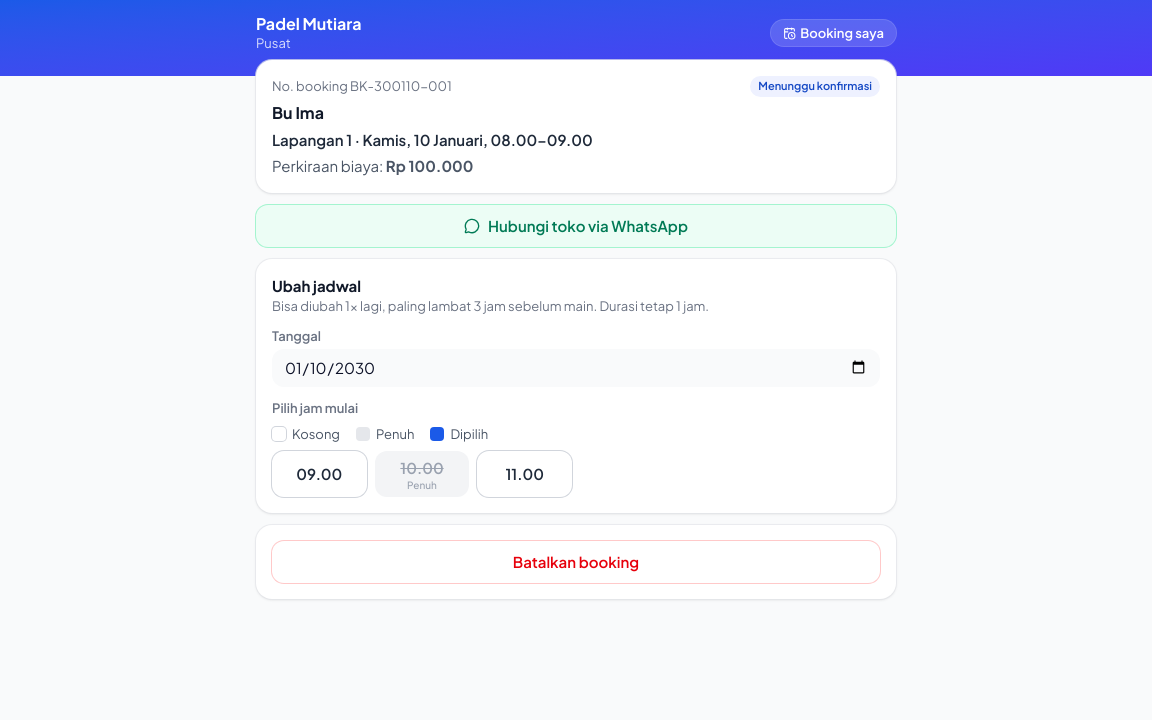
cancels only after the second, explicit tap
This screenshot has width=1152, height=720.
Click the button "Batalkan booking": (576,562) [272,541,880,583]
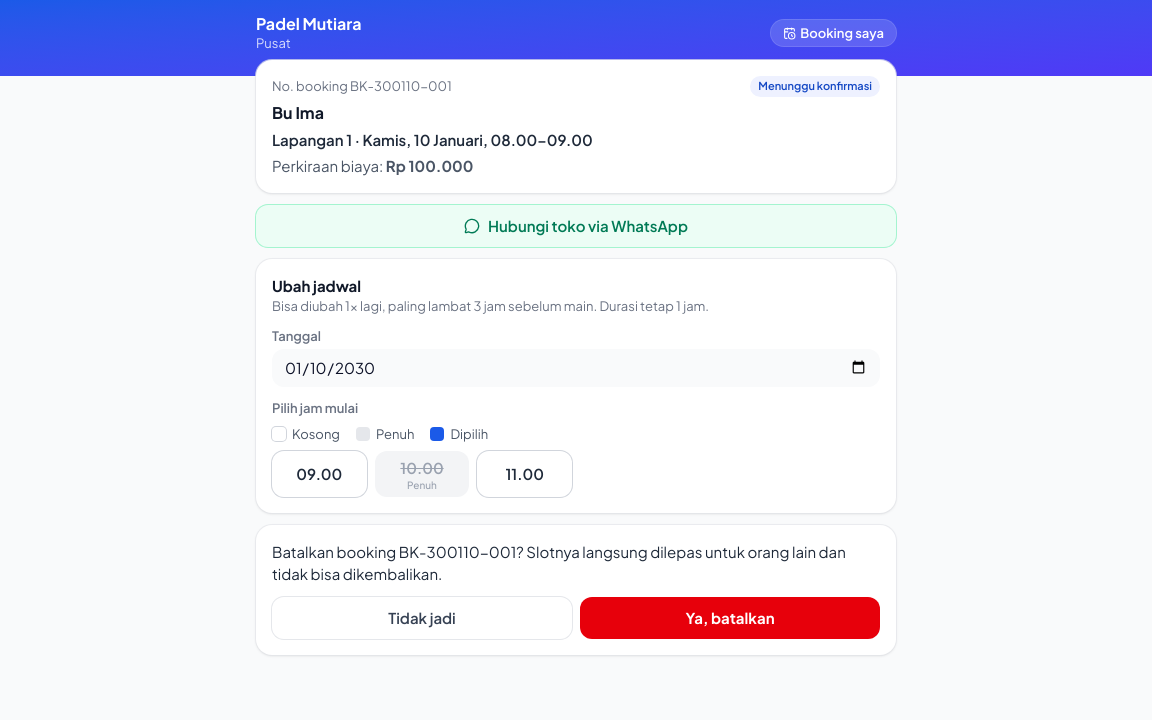
Click the button "Ya, batalkan": (730,618) [580,597,880,639]
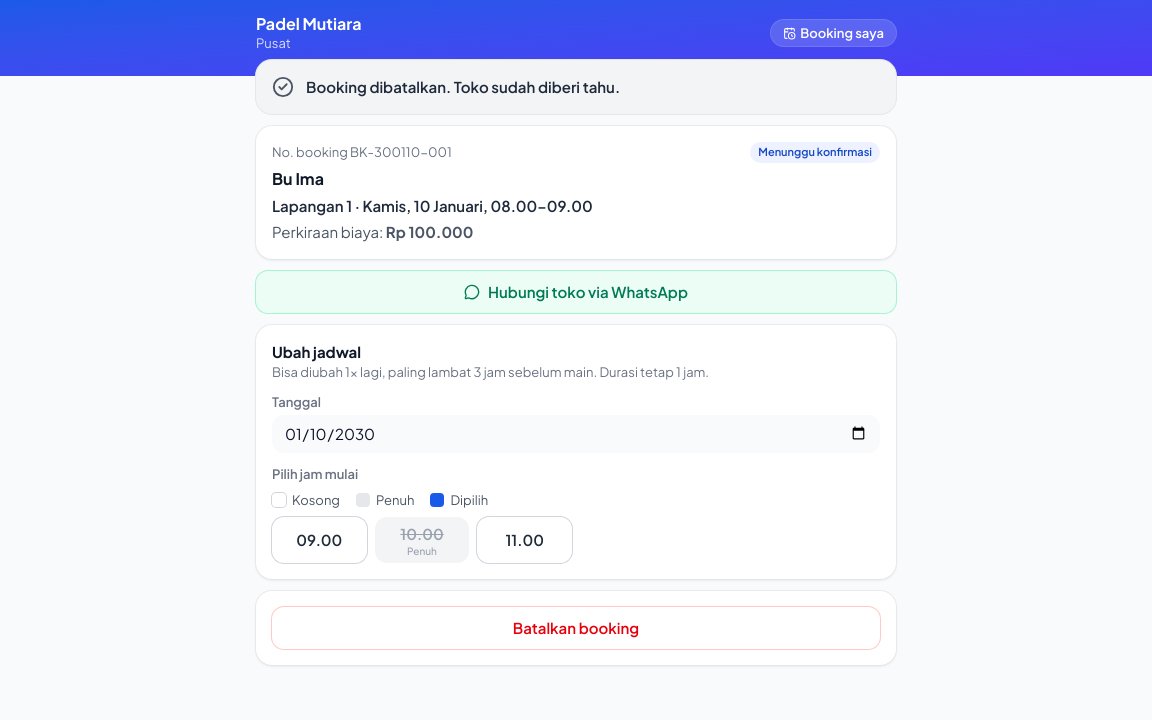
Expected: the text "Booking dibatalkan. Toko sudah diberi tahu." is shown, [306,76,620,98]
